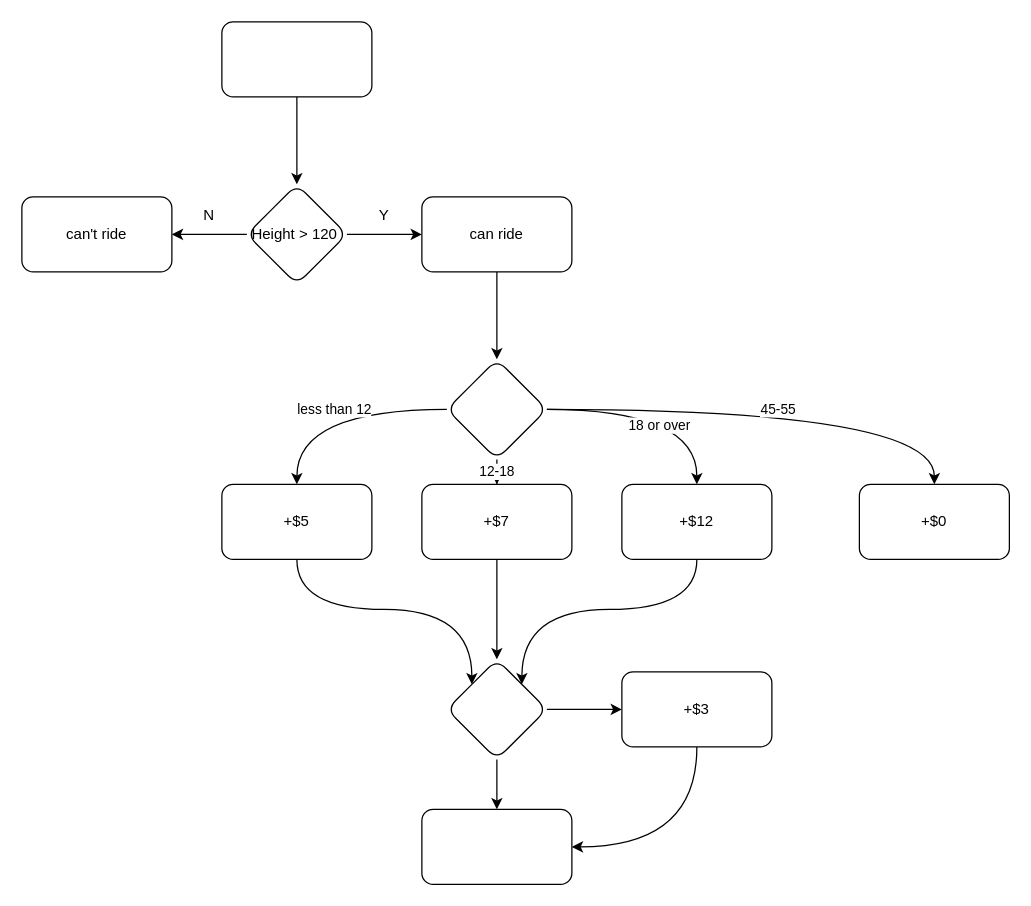
This 1031x906 diagram has some shape labels left out. Here are the shapes that lost their labels. From the top down, the centre of each, then its label:
the point at 296,59: start
the point at 496,408: age
the point at 496,708: want photos
the point at 496,846: The total bill is $...
